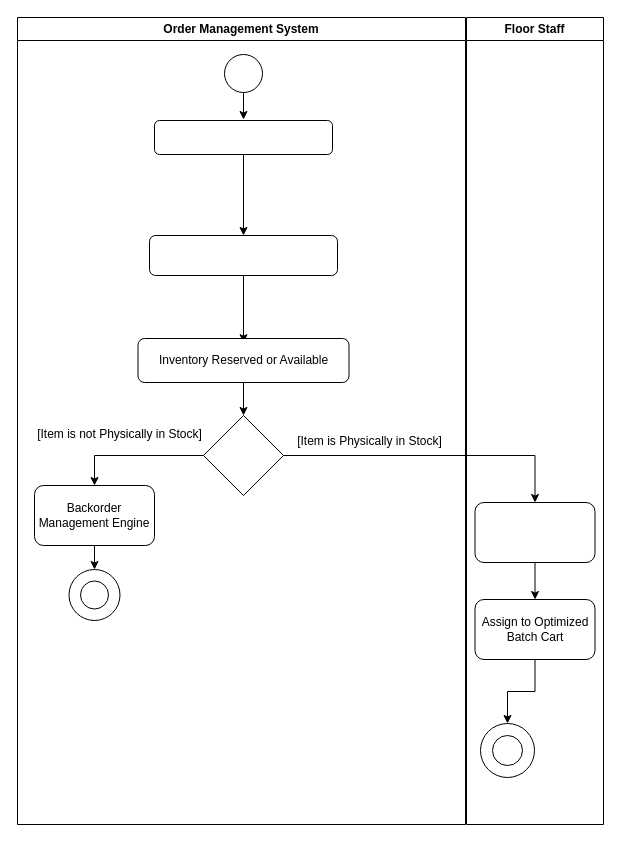
The diagram is 621 pixels wide and 842 high, and some of its shapes have lost their labels. Here are the shapes that lost their labels. From the top down, the box of each, then its label:
(154, 120, 332, 154): Customer Submit Order
(148, 234, 338, 276): Order Fulfillment State-Machine
(474, 502, 595, 562): Batch Picking Route Logic
